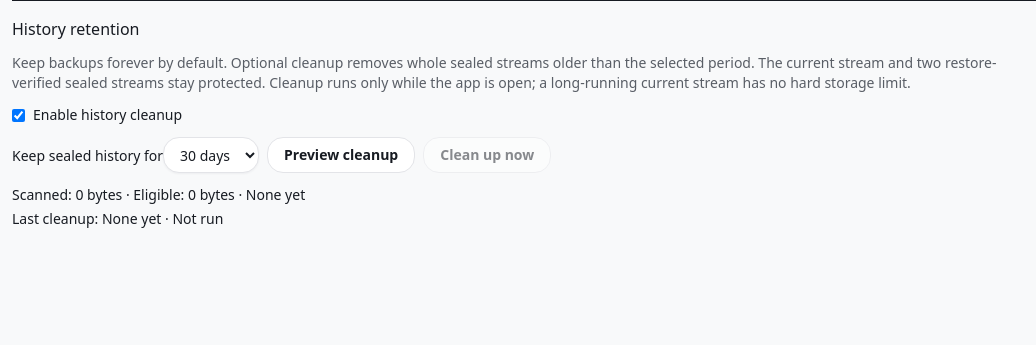
Test case: history retention › cancels an interrupted preview and permits a later retry
Click the button "Preview cleanup" at (341, 155), box [267,137,415,173]
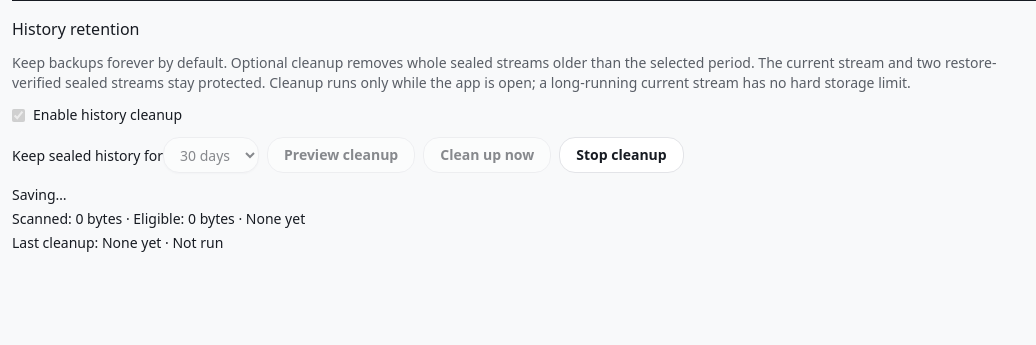
Click the button "Stop cleanup" at (622, 155), box [559,137,684,173]
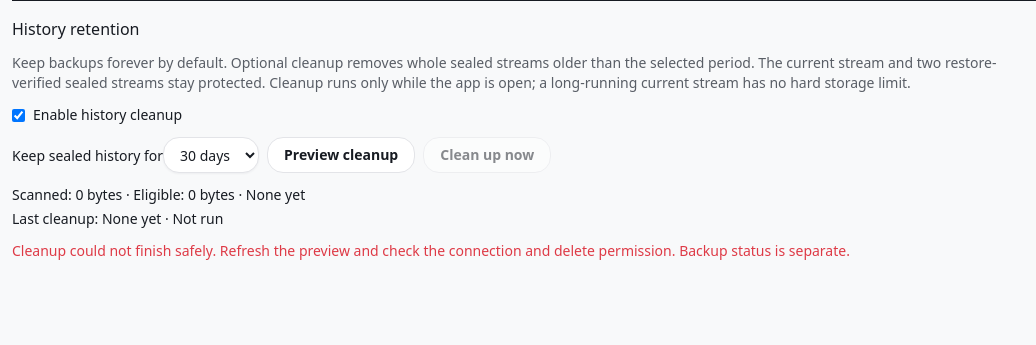
Result: the 2nd message is shown at [12,241,850,260]
Click the button "Preview cleanup" at (341, 155), box [267,137,415,173]
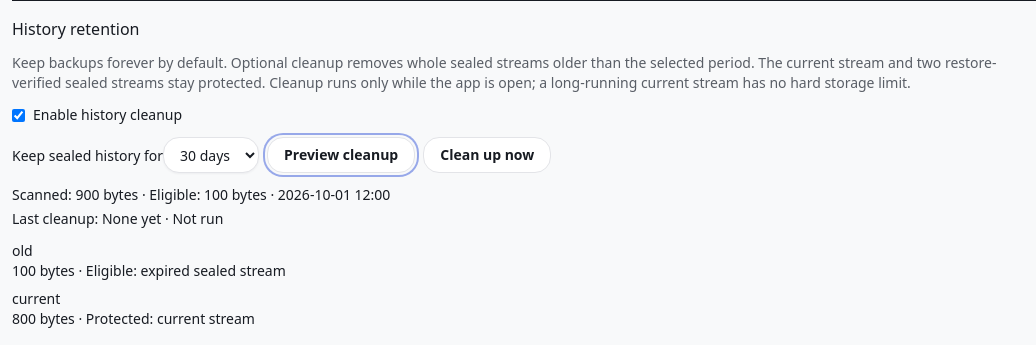
Result: the list named "Deletion candidates and protected streams" is shown at [12,241,286,328]
